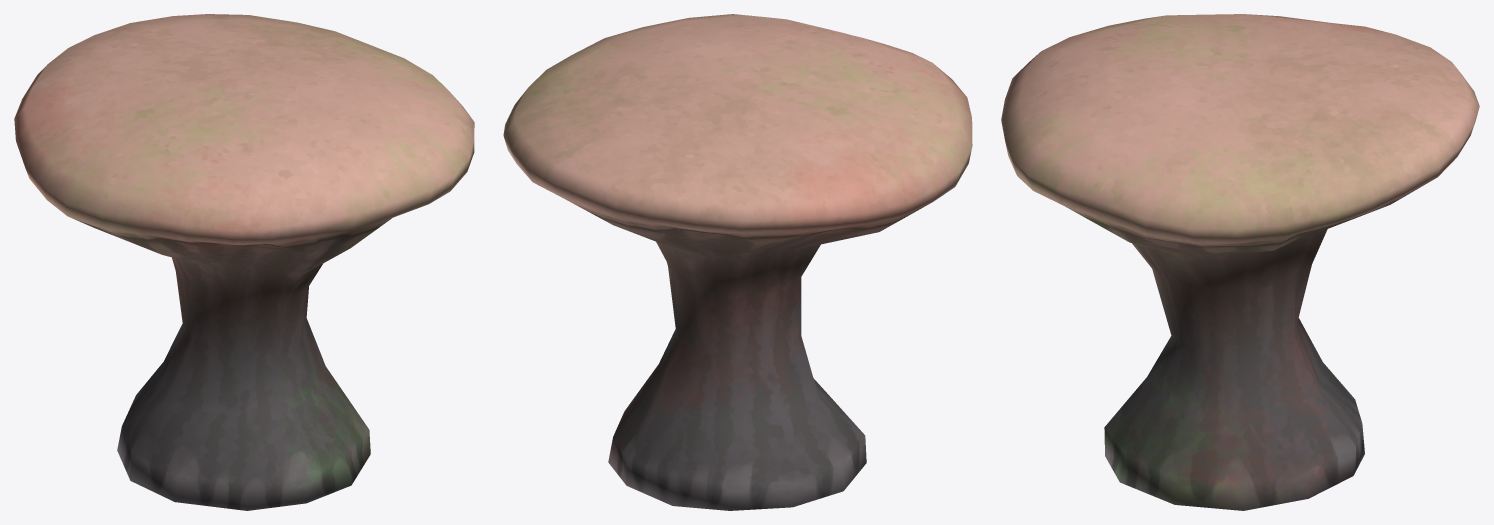
The model's file is Coral02_low_FBX_still.fbx.
3 views of the same model, side by side, from view 1: azimuth 30°, elevation 25°; view 2: azimuth 150°, elevation 25°; view 3: azimuth 270°, elevation 25° (orthographic). The views are drawn at different scales.
Parts seen in each view (by area): view 1: Coral02_low_gameasset; view 2: Coral02_low_gameasset; view 3: Coral02_low_gameasset.
Boxes of the visible parts, bbox=[...] form: Coral02_low_gameasset: bbox=[14, 14, 474, 510]; Coral02_low_gameasset: bbox=[503, 14, 972, 510]; Coral02_low_gameasset: bbox=[1001, 14, 1479, 510].
Size of the model in its own units: 3.39 by 3.07 by 3.42.
1 material, 1 textured.
